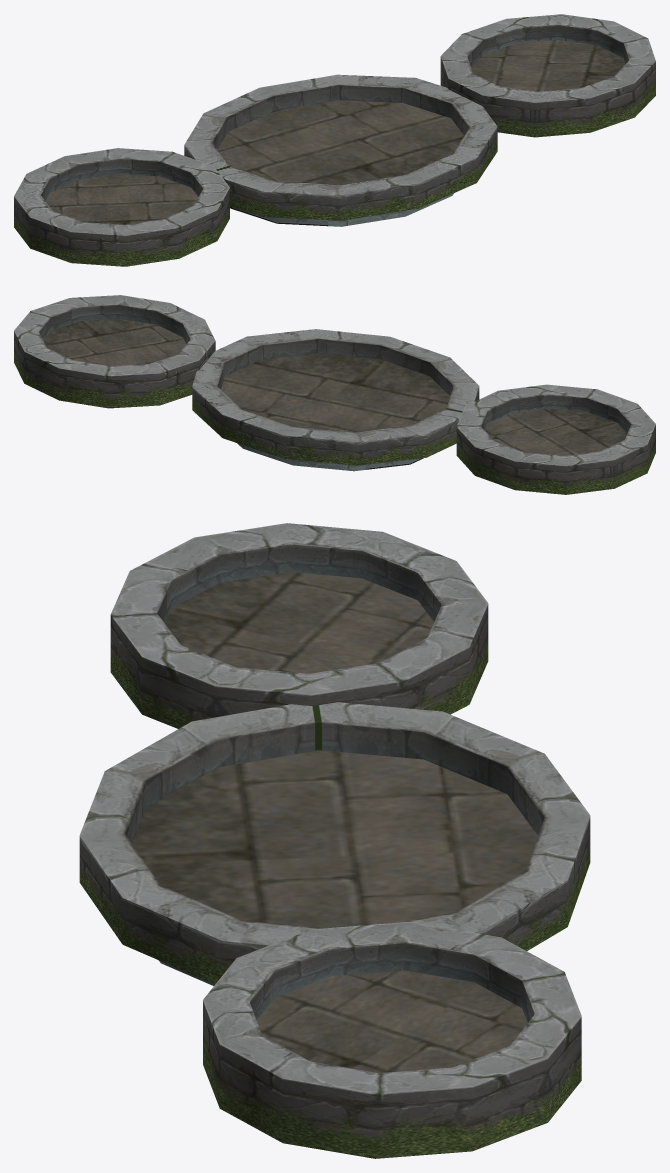
Rendered from xsz_shuitan_1.FBX.
3 renders of one model, top to bottom at view 1: azimuth 30°, elevation 25°; view 2: azimuth 150°, elevation 25°; view 3: azimuth 270°, elevation 25°, orthographic. The views are drawn at different scales.
Visible parts, largest first — view 1: xsz_shuitan_1; view 2: xsz_shuitan_1; view 3: xsz_shuitan_1.
Boxes of the visible parts, x1,y1,x2,y2 form: xsz_shuitan_1: (14,14,655,266); xsz_shuitan_1: (14,295,655,494); xsz_shuitan_1: (79,523,590,1158).
Size of the model in its own units: 1929 by 152 by 717.
